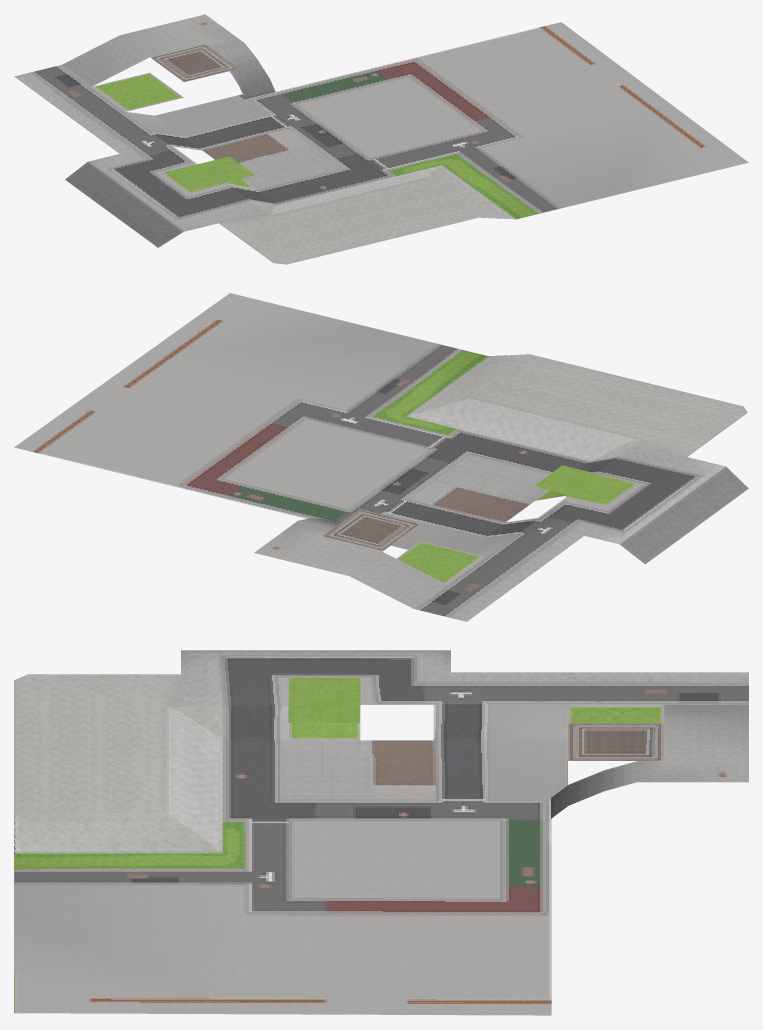
The model's file is kd_stage_1366d7_0_6_bounded.glb.
3 views of the same model, one above another, from view 1: azimuth 30°, elevation 25°; view 2: azimuth 150°, elevation 25°; view 3: azimuth 270°, elevation 25° (orthographic). The views are drawn at different scales.
Parts seen in each view (by area): view 1: kd_stage_1366d7_0_6_bounded; view 2: kd_stage_1366d7_0_6_bounded; view 3: kd_stage_1366d7_0_6_bounded.
Boxes of the visible parts, bbox=[...] form: kd_stage_1366d7_0_6_bounded: bbox=[14, 14, 748, 264]; kd_stage_1366d7_0_6_bounded: bbox=[14, 293, 748, 621]; kd_stage_1366d7_0_6_bounded: bbox=[14, 650, 748, 1015].
Size of the model in its own units: 66.22 by 4.05 by 56.24.
Materials: 1 (1 with a texture image).
